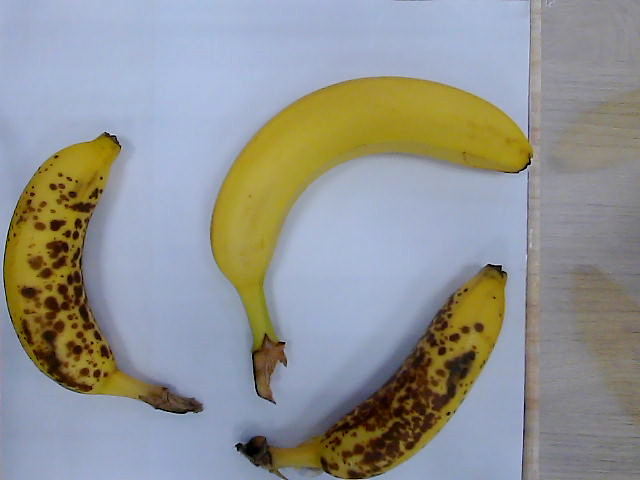fresh_banana: (210, 77, 535, 400)
rotten_banana: (244, 265, 508, 480), (4, 133, 203, 416)
